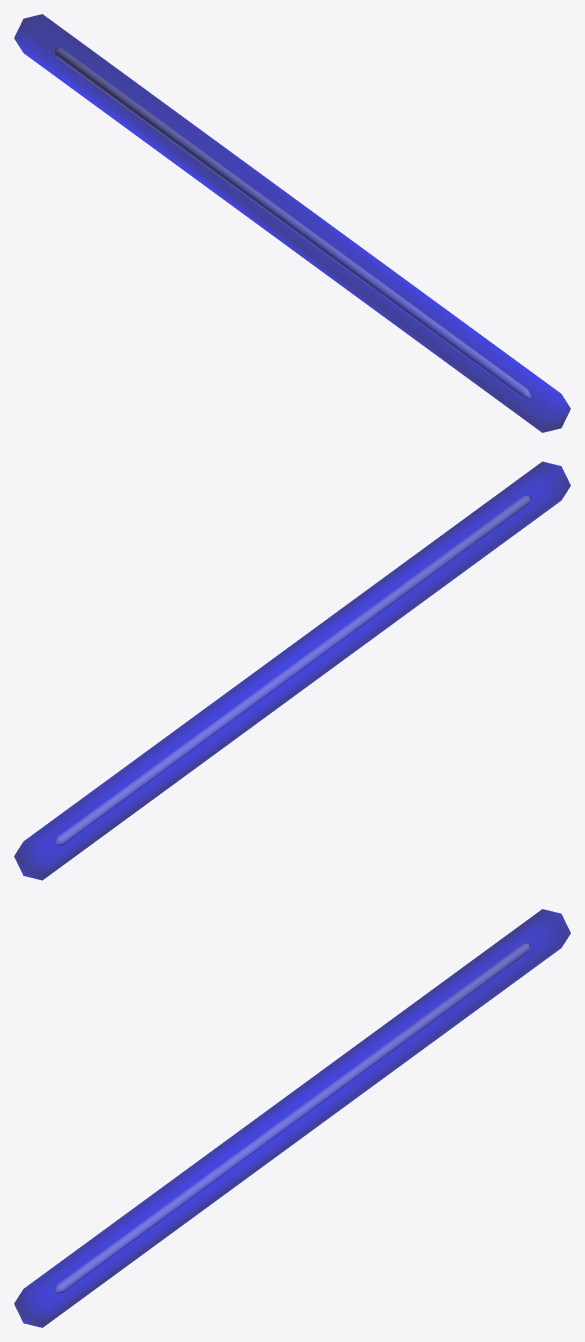
Rendered from blue_laser_model.fbx.
The picture shows the model from 3 angles, top to bottom: view 1: azimuth 30°, elevation 25°; view 2: azimuth 150°, elevation 25°; view 3: azimuth 330°, elevation 25°; orthographic projection.
Parts seen in each view (by area): view 1: glow, bolt; view 2: glow, bolt; view 3: glow, bolt.
Boxes of the visible parts, box(x1,y1,x2,y2) form: glow: box(14, 14, 570, 432); bolt: box(54, 48, 531, 398); glow: box(14, 461, 570, 880); bolt: box(54, 495, 531, 845); glow: box(14, 909, 570, 1327); bolt: box(53, 943, 530, 1293).
Size of the model in its own units: 3.15 by 2.73 by 76.43.
